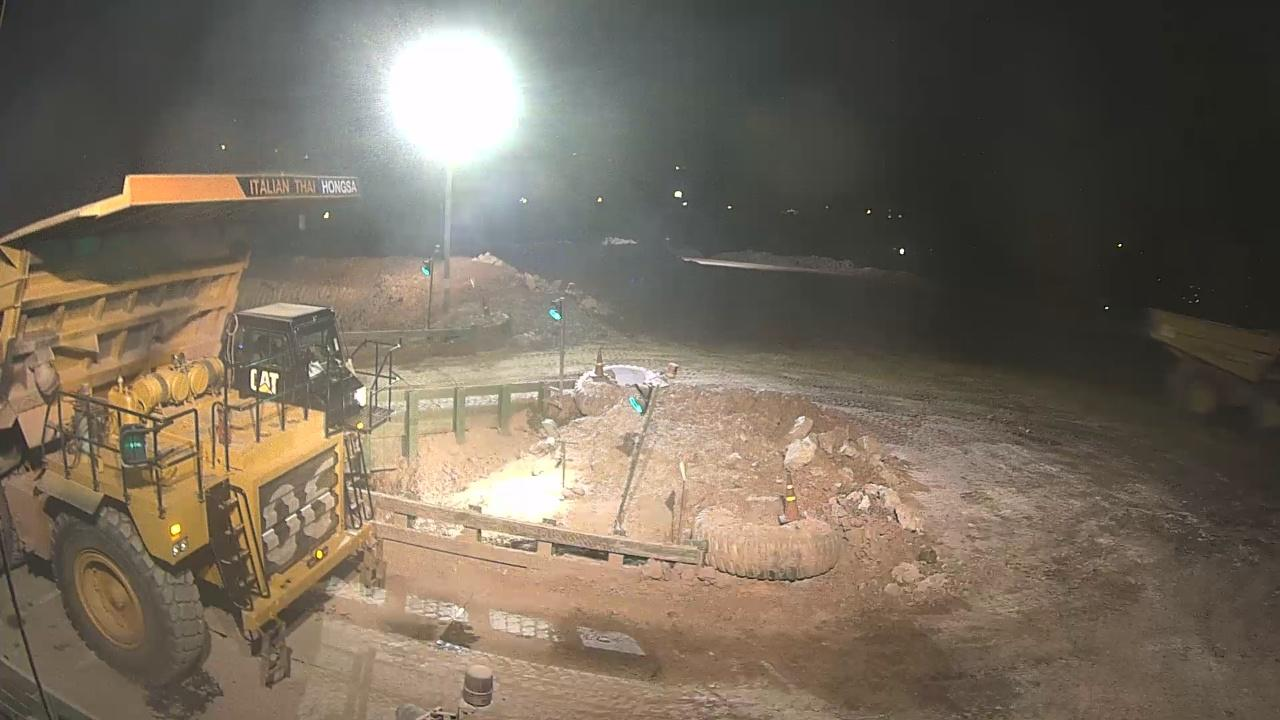dumping_soil: (0, 149, 398, 712)
front_number: (257, 457, 338, 579)
